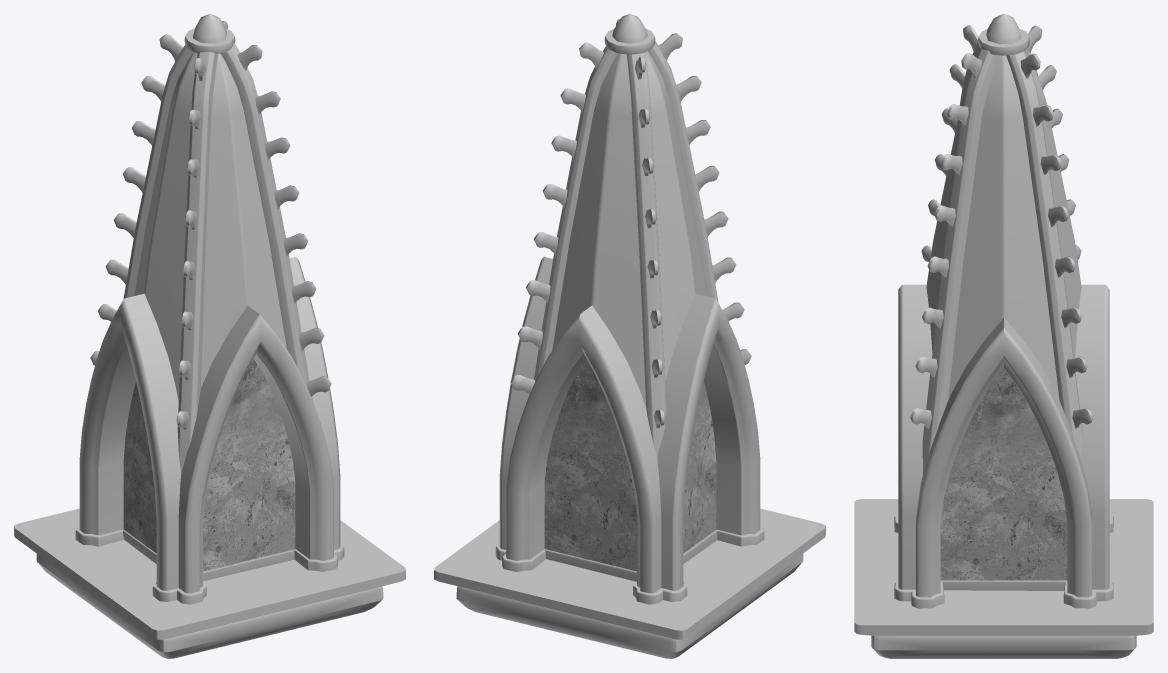
The model's file is SM_Pinbacle_01a.fbx.
3 views of the same model, side by side, from view 1: azimuth 30°, elevation 25°; view 2: azimuth 150°, elevation 25°; view 3: azimuth 270°, elevation 25° (orthographic). The views are drawn at different scales.
Parts seen in each view (by area): view 1: SM_Pinbacle_01a_LOD0; view 2: SM_Pinbacle_01a_LOD0; view 3: SM_Pinbacle_01a_LOD0.
Part boxes in pixels (bbox=[...]): SM_Pinbacle_01a_LOD0: bbox=[14, 14, 405, 658]; SM_Pinbacle_01a_LOD0: bbox=[434, 14, 825, 658]; SM_Pinbacle_01a_LOD0: bbox=[854, 14, 1153, 658].
Bounding box in the file's own units: 414 × 414 × 906.
